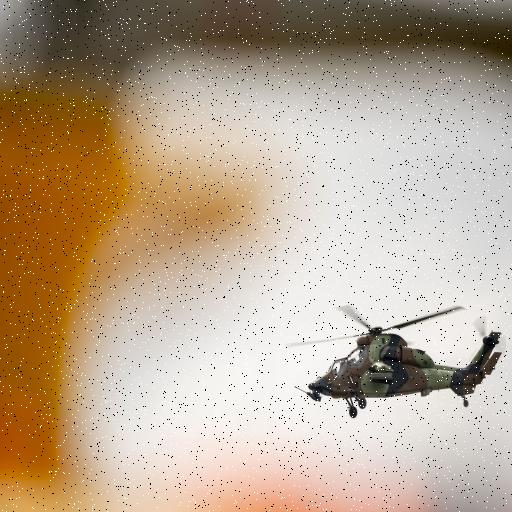helicopter: (285, 306, 505, 415)
